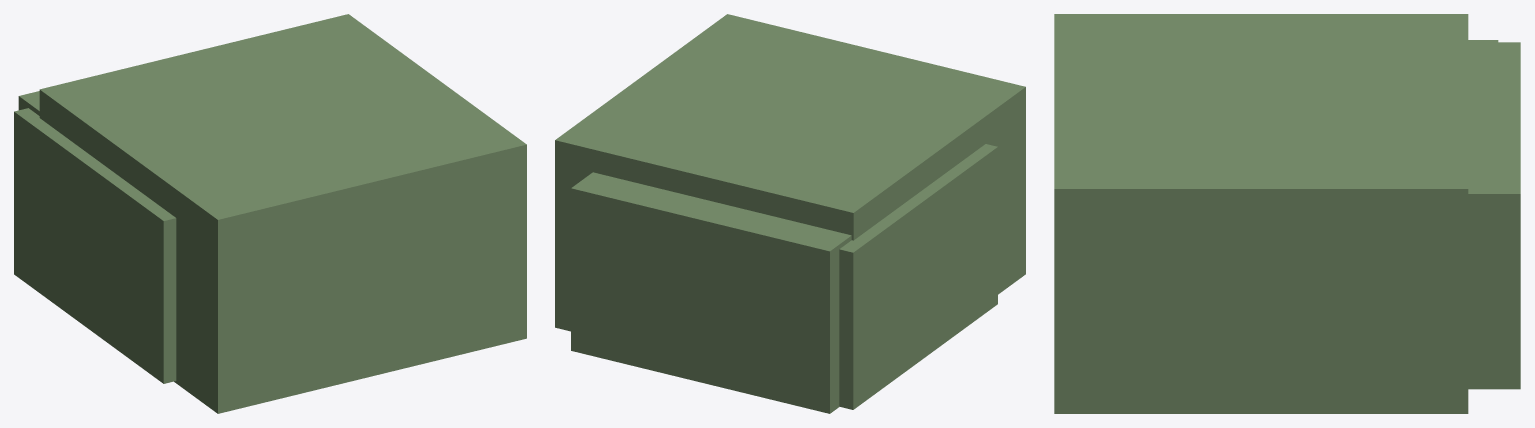
File: shrub_v0_near.gltf
The picture shows the model from 3 angles, left to right: view 1: azimuth 30°, elevation 25°; view 2: azimuth 150°, elevation 25°; view 3: azimuth 270°, elevation 25°; orthographic projection. The views are drawn at different scales.
Visible parts, largest first — view 1: cover; view 2: cover; view 3: cover.
Part boxes in pixels (x1,y1,x2,y2): cover: (14, 14, 526, 413); cover: (555, 14, 1025, 413); cover: (1054, 14, 1520, 413).
Size of the model in its own units: 0.5623 by 0.3242 by 0.6088.
